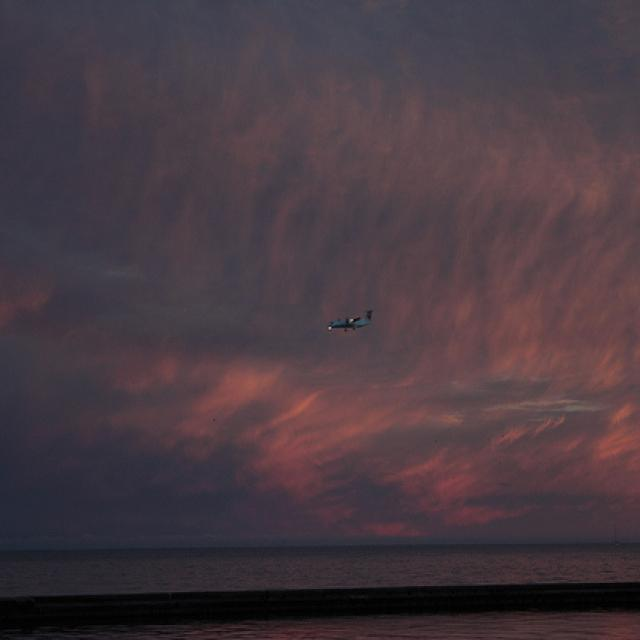airplane: (326, 306, 376, 333)
